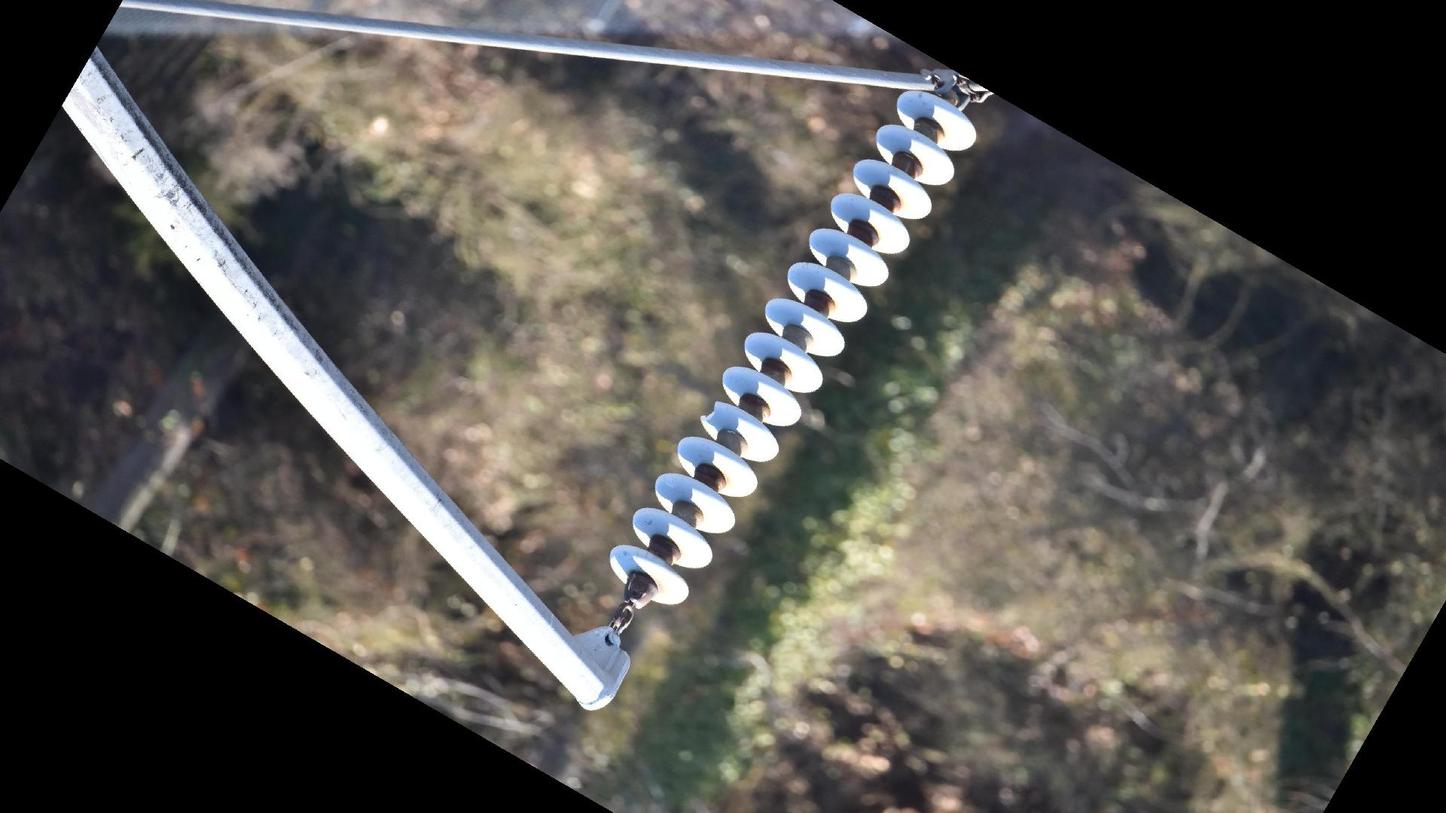insulator: (604, 84, 984, 610)
insulator_breakage: (691, 394, 729, 433)
